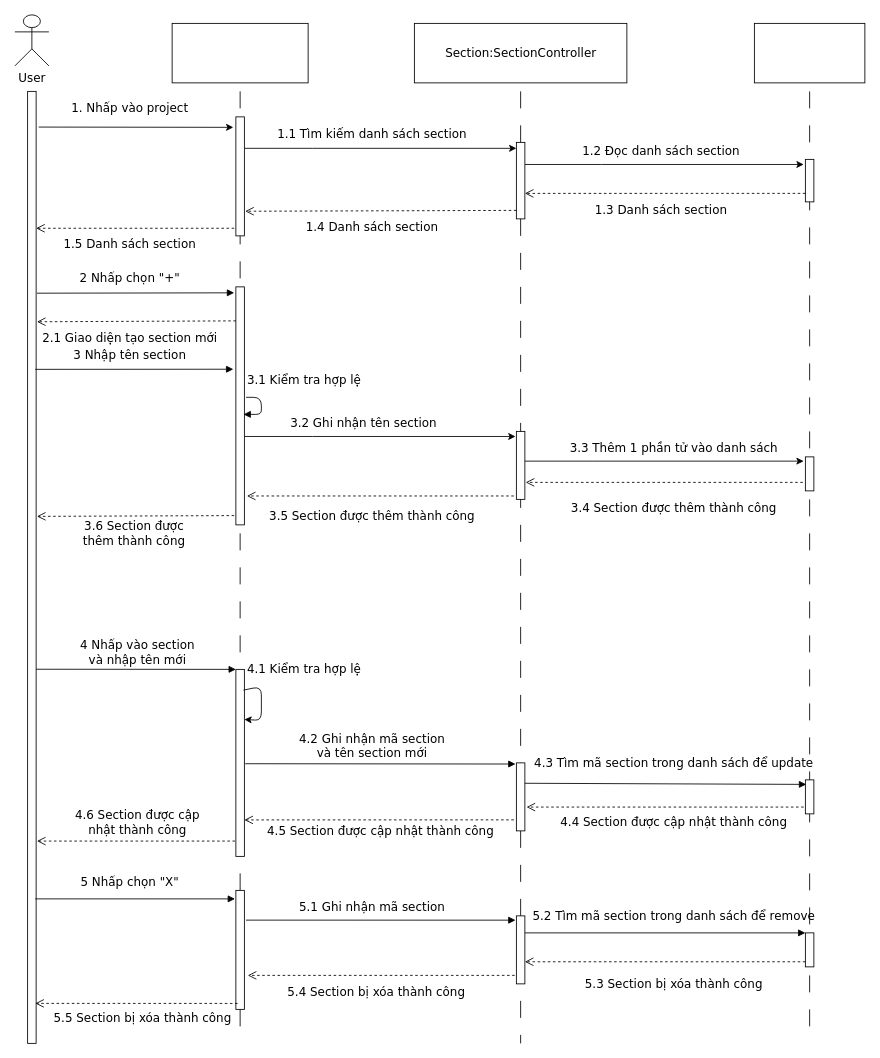
Some shapes in this 880 by 1058 pixel diagram are drawn without their labels. Here are the shapes that lost their labels. From the top down, the centre of each, then its label:
At [239,53]: "Giao diện MyTask :UI".
At [809,53]: "Database".
